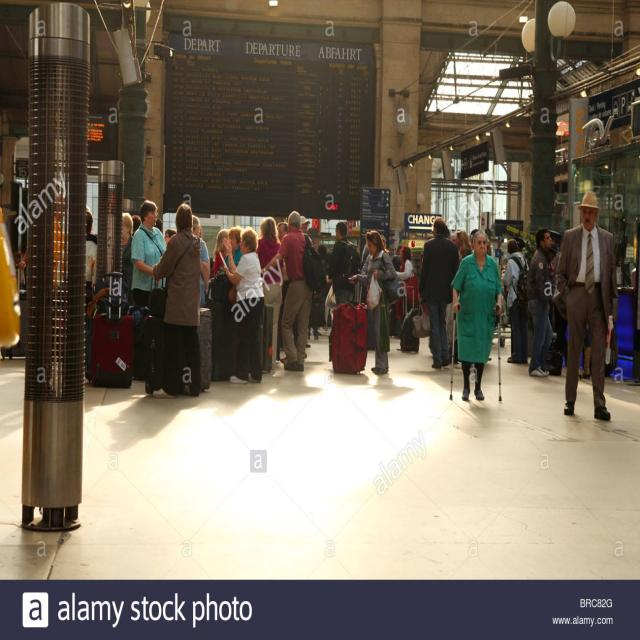body: (553, 189, 619, 422), (255, 208, 327, 374), (151, 201, 203, 400), (450, 228, 503, 402), (347, 228, 399, 376), (220, 225, 266, 386), (417, 215, 461, 369), (255, 215, 285, 373), (525, 225, 555, 379), (129, 199, 168, 308), (191, 212, 230, 310), (502, 237, 531, 365), (276, 222, 299, 366), (325, 220, 361, 306), (84, 209, 99, 385), (394, 244, 418, 340), (119, 210, 141, 313), (299, 213, 332, 258), (544, 241, 561, 328), (305, 291, 325, 364), (219, 226, 244, 276), (12, 244, 28, 304), (578, 320, 592, 382), (451, 228, 479, 258), (499, 256, 508, 349), (446, 304, 458, 366), (517, 236, 538, 270), (546, 229, 562, 270), (154, 217, 176, 246), (616, 259, 636, 290), (390, 245, 403, 273), (554, 146, 571, 164), (593, 135, 613, 150), (621, 125, 635, 146), (380, 233, 390, 256), (361, 244, 369, 266), (486, 234, 492, 254)
